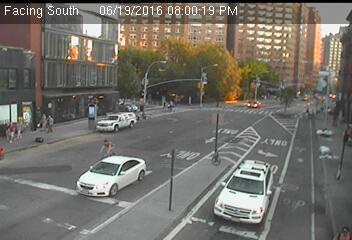neg: (91, 133, 118, 169), (254, 102, 265, 117), (72, 96, 82, 110)
pos: (33, 110, 47, 130), (46, 114, 60, 133)
